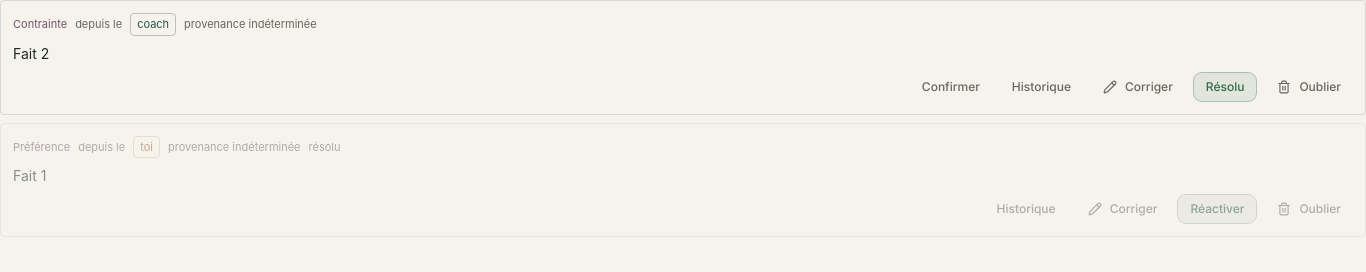
Scenario: edits a fact in place and only saves a changed text
Click the 1st button "Corriger" at coordinates (1138, 86), box [1091, 72, 1185, 102]
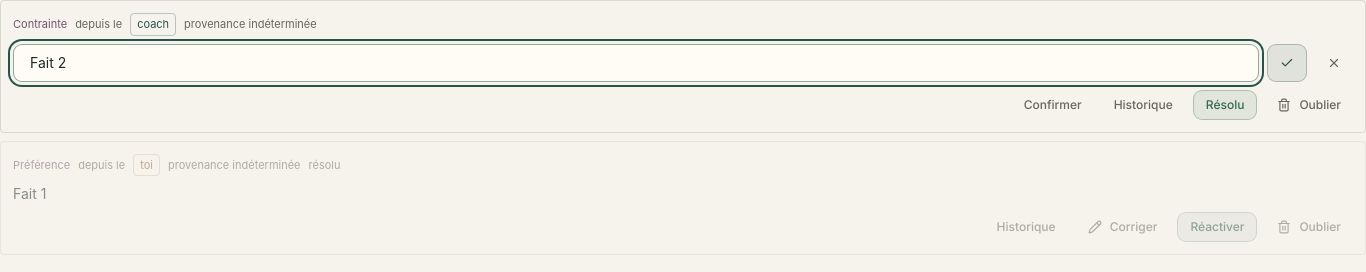
Click the button named "Enregistrer le fait" at coordinates (1287, 62), box [1267, 44, 1307, 82]
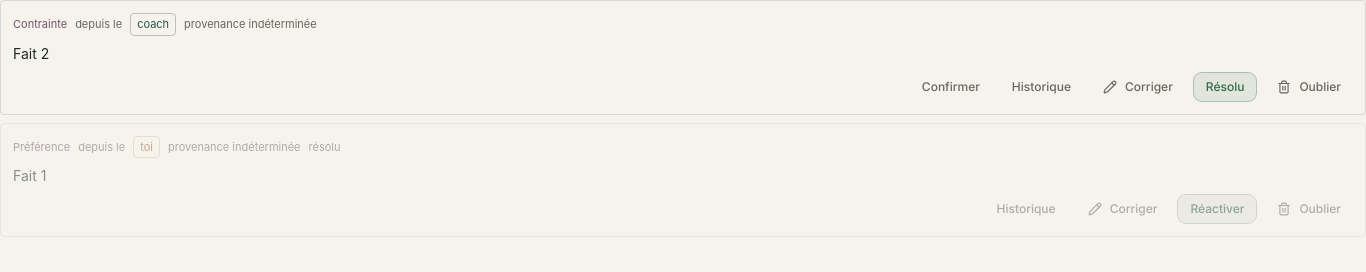
Click the 1st button "Corriger" at coordinates (1138, 86), box [1091, 72, 1185, 102]
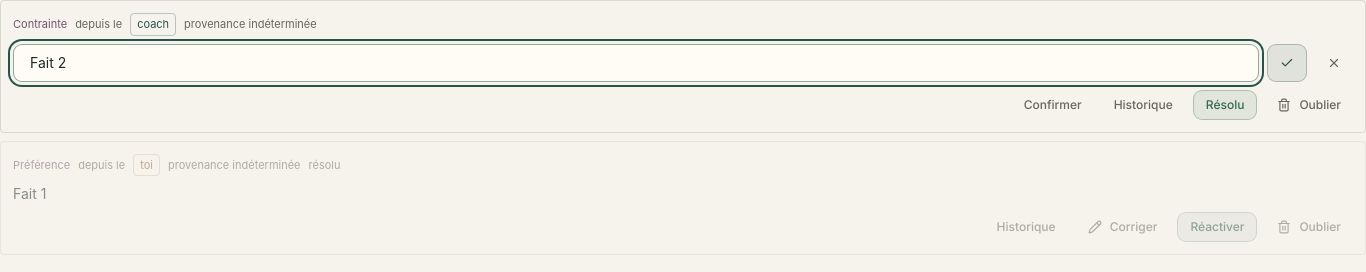
Replace the text in the field named "Texte du fait" with "  Pas de côtes  " at coordinates (636, 62), box [13, 44, 1259, 82]
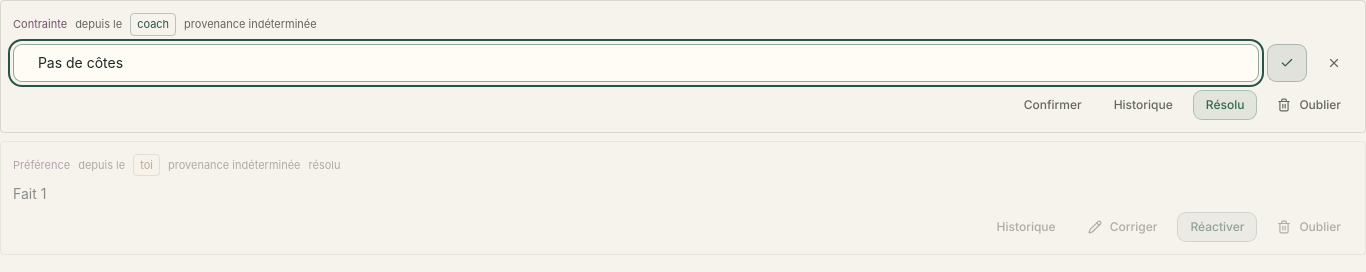
Click the button named "Enregistrer le fait" at coordinates (1287, 62), box [1267, 44, 1307, 82]
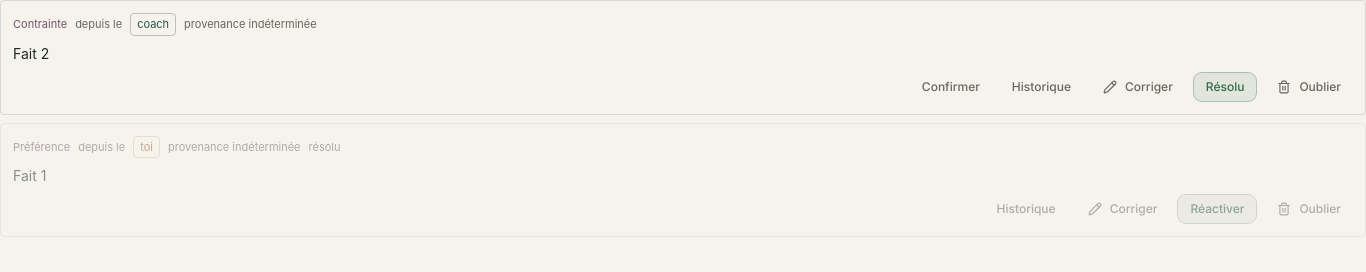
Now the text "Fait 2" is shown, box [13, 44, 49, 62]
